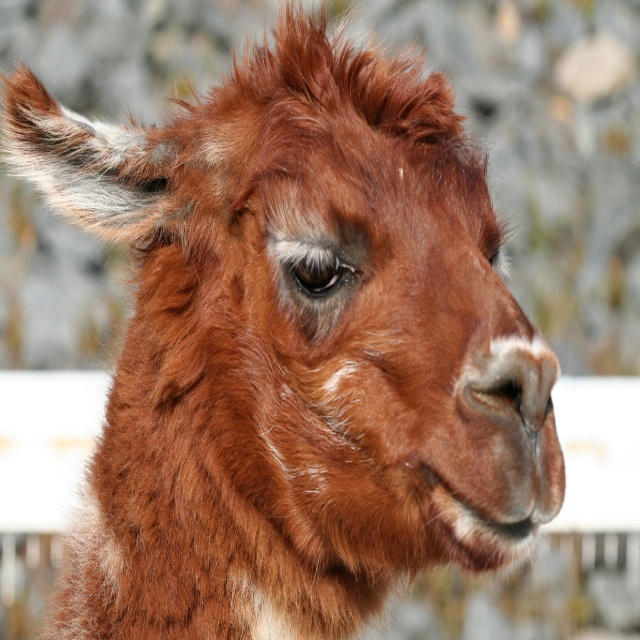Goat: (2, 1, 563, 635)
